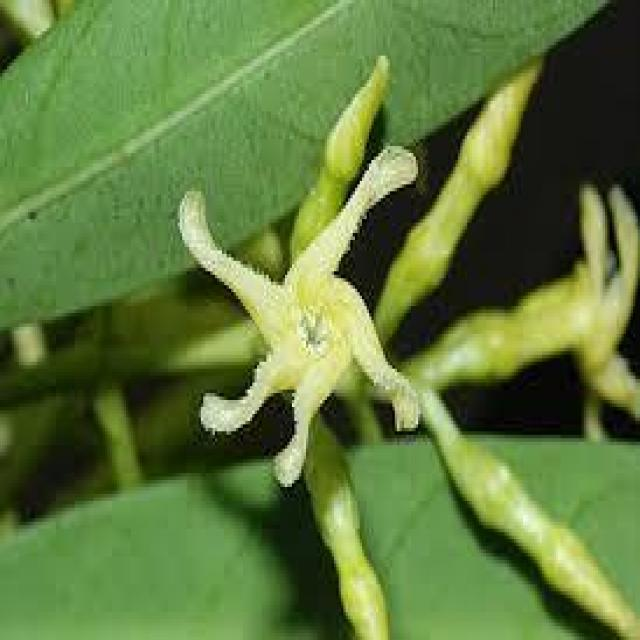organic waste: (167, 138, 426, 499)
